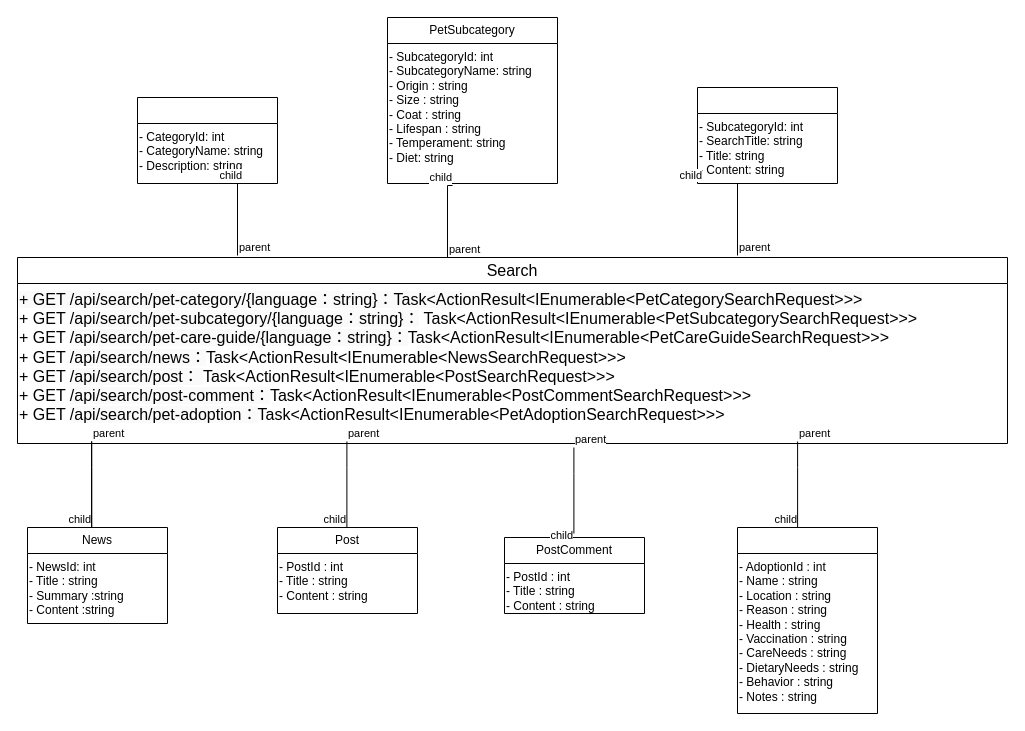
This 1025x731 diagram has some shape labels left out. Each missing label, with the box of its shape:
PetAdoption: (736, 526, 878, 714)
PetCareGuide: (696, 86, 838, 184)
PetCategory: (136, 96, 278, 184)
